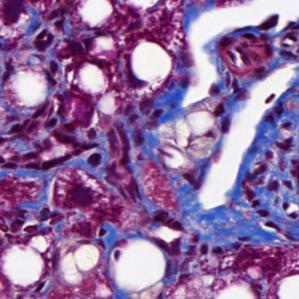inflammation: (87, 117, 134, 178), (241, 149, 285, 208), (143, 209, 186, 256), (32, 29, 83, 64)
